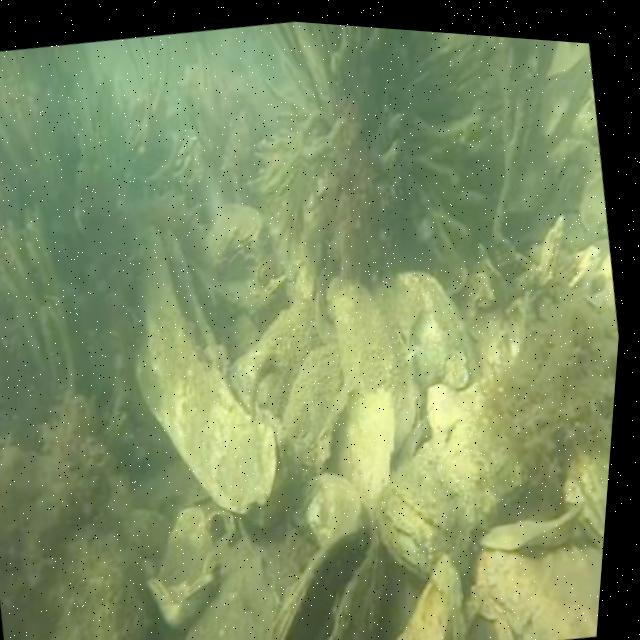Oyster-Closed: (133, 226, 277, 514)
Oyster-Indeterminate: (370, 264, 480, 409), (428, 374, 527, 521), (329, 280, 414, 447), (377, 436, 471, 569), (476, 546, 603, 640), (280, 346, 346, 517), (413, 174, 469, 296), (394, 554, 473, 640), (157, 510, 220, 586), (198, 202, 262, 271), (150, 572, 218, 626), (536, 221, 565, 283)
Oyster-Open: (270, 510, 384, 640)
